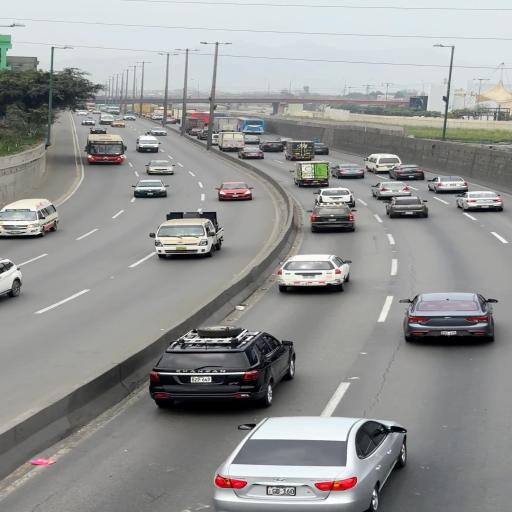auto: (209, 416, 403, 510), (149, 325, 294, 404), (402, 292, 498, 342), (276, 256, 350, 292), (151, 223, 215, 257), (308, 205, 356, 232), (454, 190, 503, 212), (382, 196, 428, 218), (315, 187, 356, 207), (370, 181, 413, 200), (214, 182, 254, 202), (426, 176, 468, 193), (132, 179, 168, 197), (388, 165, 424, 181), (330, 164, 365, 179), (145, 159, 175, 175), (259, 141, 284, 152), (238, 150, 264, 159), (147, 126, 168, 136), (277, 138, 297, 148), (89, 124, 108, 134), (197, 130, 210, 140), (110, 120, 126, 127), (165, 118, 178, 124), (76, 110, 87, 116), (212, 138, 220, 146)
bus: (0, 198, 57, 237), (84, 133, 127, 164), (364, 153, 401, 173), (135, 135, 161, 152), (240, 118, 265, 134), (187, 111, 210, 127), (154, 107, 172, 118), (99, 115, 114, 125), (94, 104, 106, 112), (107, 108, 120, 115), (86, 102, 96, 108)
camion: (288, 160, 329, 188), (282, 140, 316, 160), (217, 130, 247, 152), (213, 117, 240, 135), (131, 103, 159, 115), (170, 108, 193, 120)
